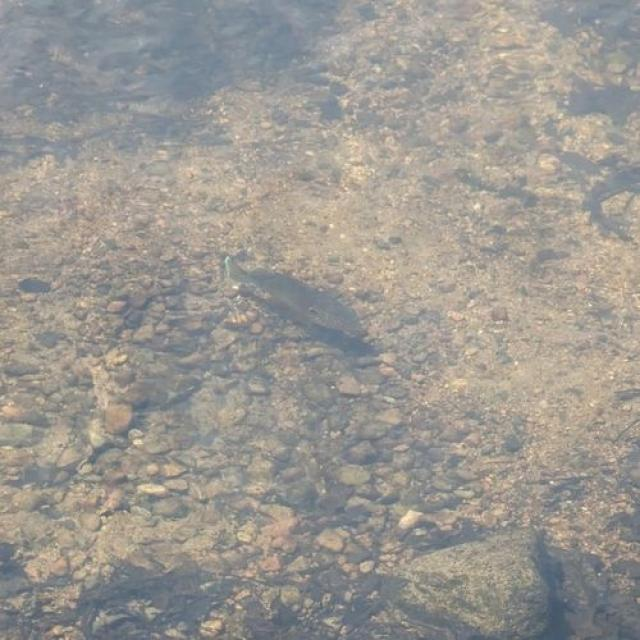Gunes Levregi: (218, 245, 376, 347)
